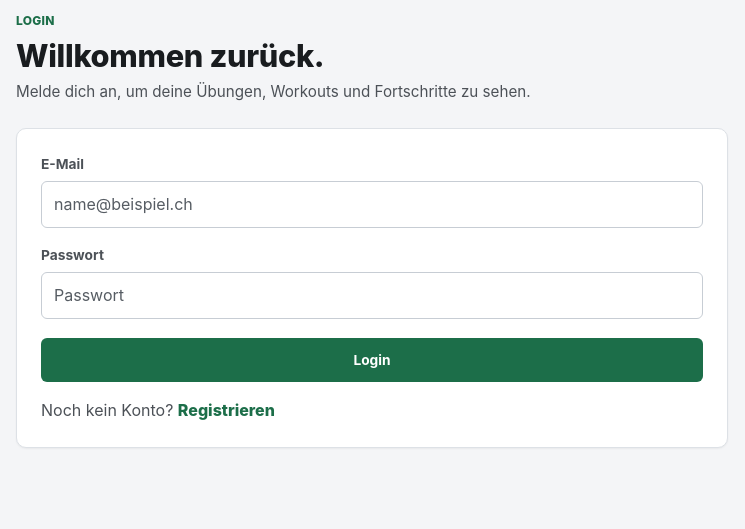
Test: LoginView › a plain 401 still shows the generic login-failed message, unaffected by the new 429 branch
Type "someone@example.test" into the field with id "email" at {"x": 372, "y": 204}, box [41,181,703,228]
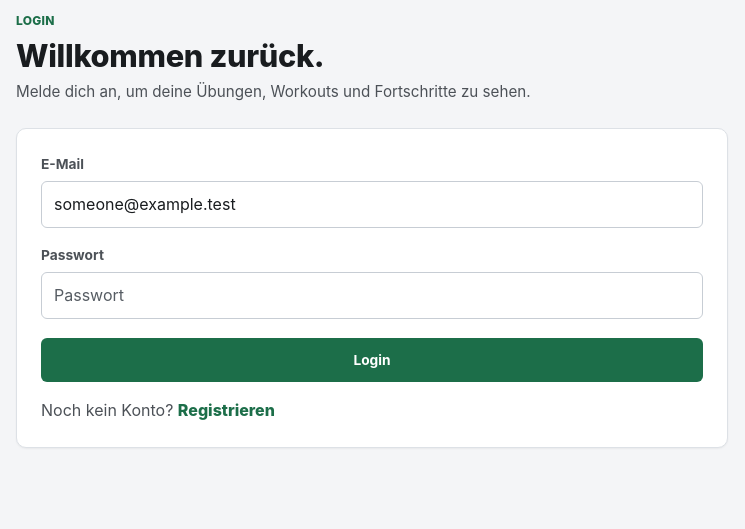
Type "wrong-password" into the password field with placeholder "Passwort" at {"x": 372, "y": 296}, box [41,272,703,319]
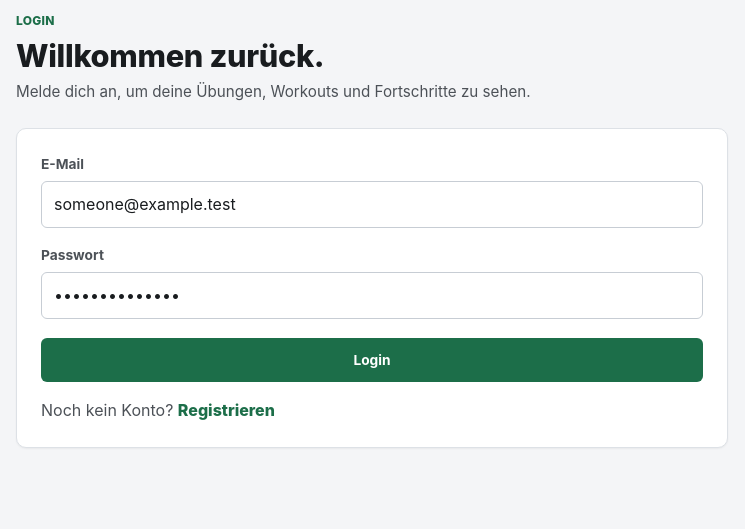
Submit the form, box [41,153,703,382]
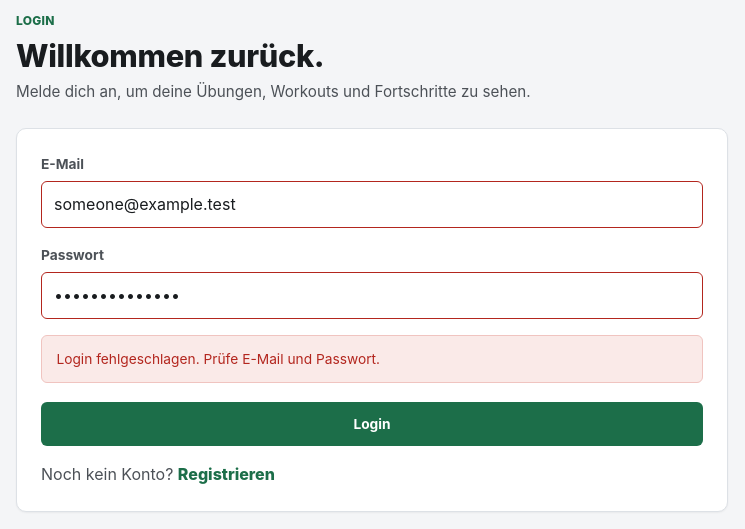
Expected: the submit button is enabled, [41,402,703,446]
Expected: the message "Login fehlgeschlagen. Prüfe E-Mail und Passwort." is shown, [41,335,703,383]
